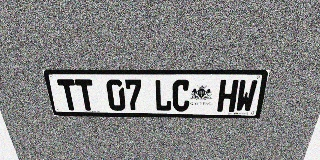0: (106, 79, 126, 111)
7: (124, 79, 143, 111)
C: (172, 80, 191, 111)
H: (217, 80, 239, 112)
L: (154, 80, 172, 111)
T: (57, 79, 80, 110), (74, 79, 96, 111)
W: (235, 80, 258, 112)
